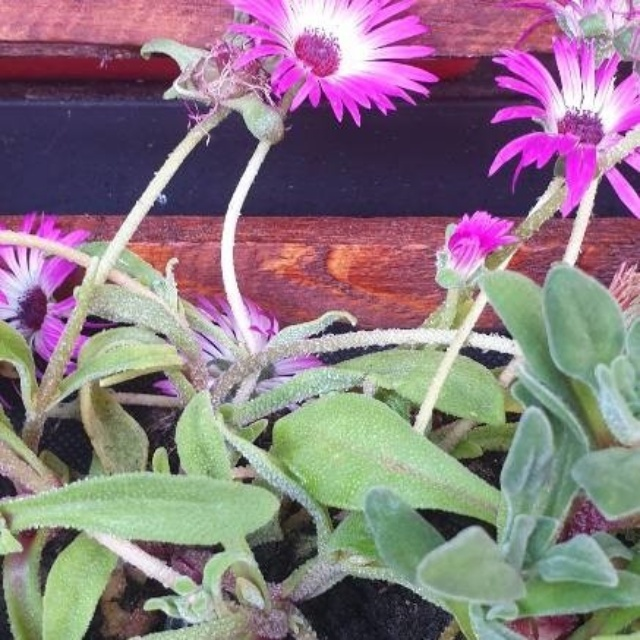obstacle: (132, 9, 436, 612), (450, 41, 618, 608), (460, 246, 636, 590)
